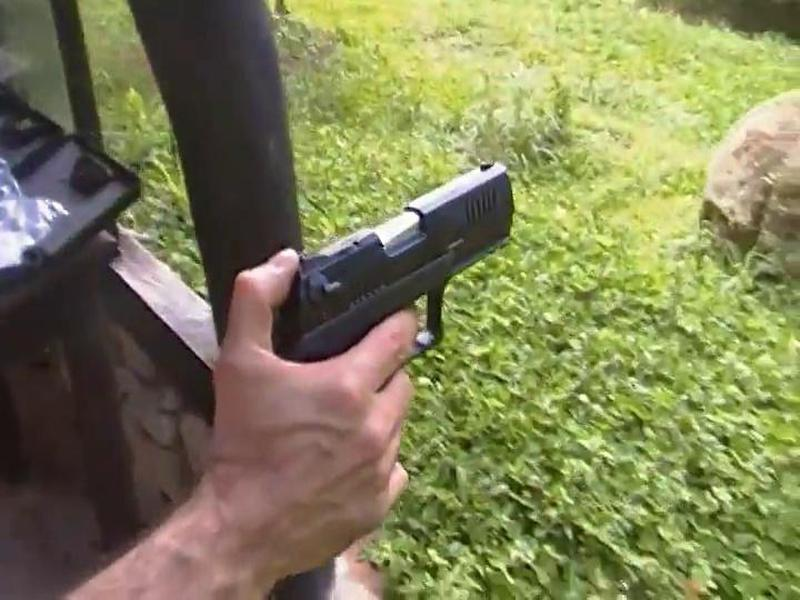Pistola: (241, 153, 525, 404)
